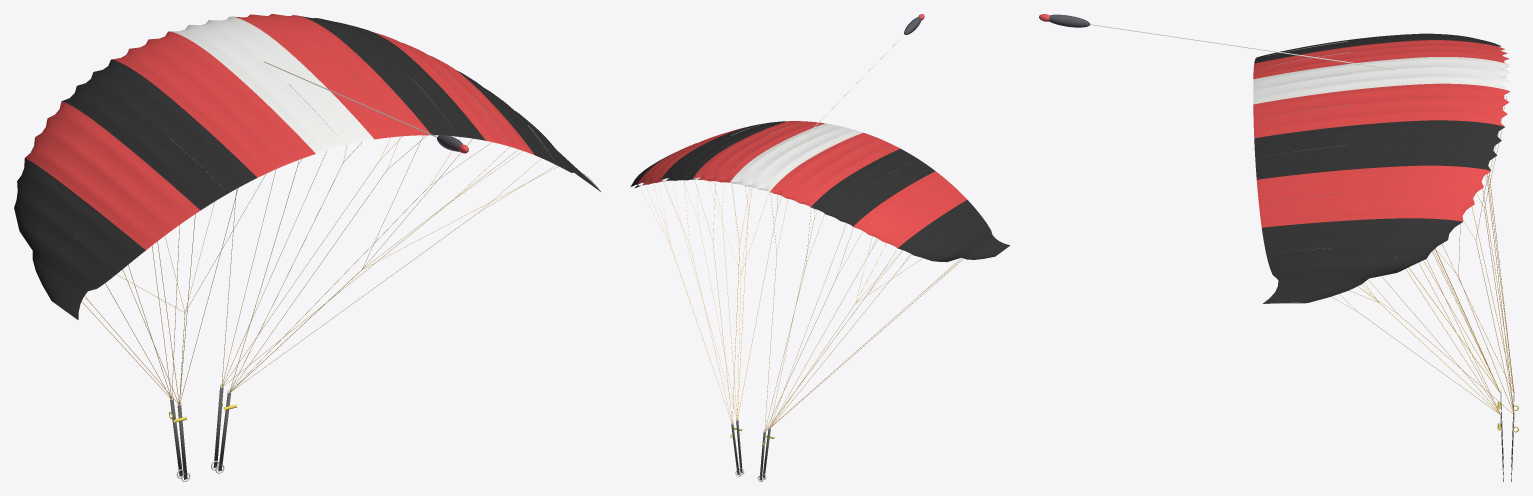
File: PD_Peregrine_71.glb
3 views of the same model, side by side, from view 1: azimuth 30°, elevation 25°; view 2: azimuth 150°, elevation 25°; view 3: azimuth 270°, elevation 25° (orthographic). The views are drawn at different scales.
Parts seen in each view (by area): view 1: TopSkin, Lines, Risers, SteeringLines, PilotChute; view 2: TopSkin, Lines, Risers, SteeringLines, BottomSkin; view 3: TopSkin, Lines, PilotChute.
Part boxes in pixels (<box>): TopSkin: <box>14,14,600,319</box>; Lines: <box>81,135,555,404</box>; Risers: <box>169,384,236,481</box>; SteeringLines: <box>116,135,558,417</box>; PilotChute: <box>263,61,468,153</box>; TopSkin: <box>630,121,1009,261</box>; Lines: <box>641,180,963,431</box>; Risers: <box>730,418,774,481</box>; SteeringLines: <box>708,181,922,425</box>; BottomSkin: <box>634,177,973,262</box>; TopSkin: <box>1253,33,1510,303</box>; Lines: <box>1331,70,1513,414</box>; PilotChute: <box>1039,14,1396,69</box>.
Bounding box in the file's own units: 4.03 × 3.81 × 3.6.
